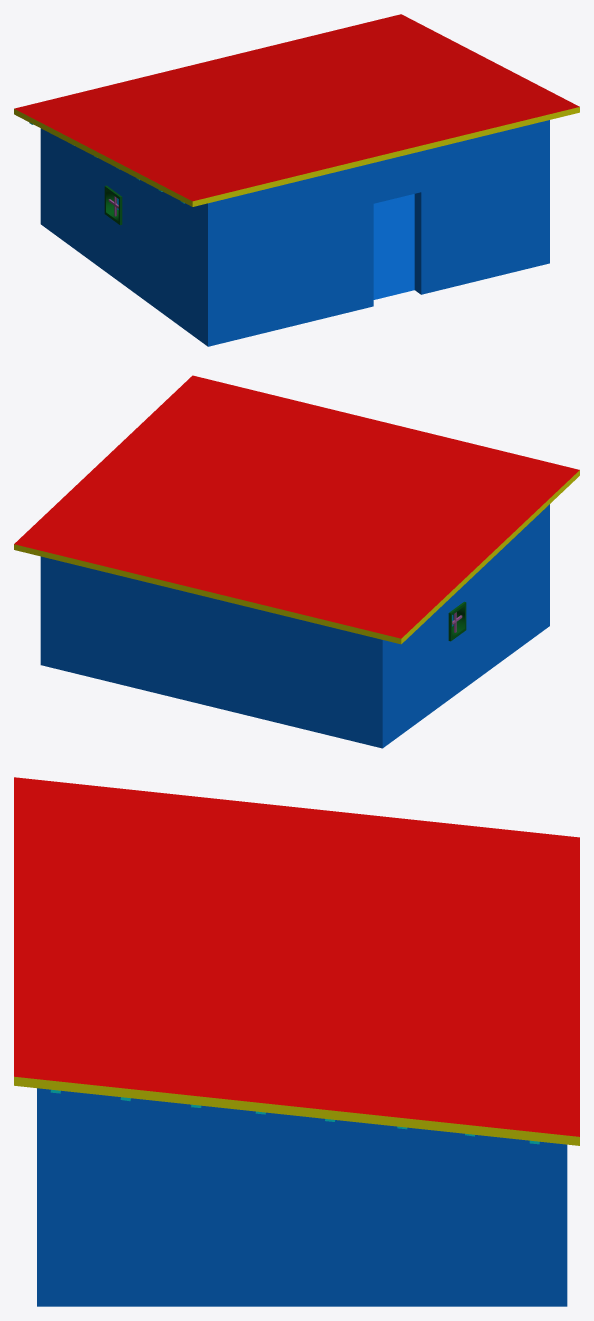
The model's file is Lighthouse_Building_Schuppen.fbx.
3 renders of one model, top to bottom at view 1: azimuth 30°, elevation 25°; view 2: azimuth 150°, elevation 25°; view 3: azimuth 270°, elevation 25°, orthographic. The views are drawn at different scales.
Visible parts, largest first — view 1: Building; view 2: Building; view 3: Building.
Part boxes in pixels (box(x1,y1,x2,y2)): Building: box(14, 14, 579, 346); Building: box(14, 375, 579, 748); Building: box(14, 777, 579, 1306).
Bounding box in the file's own units: 8.7 × 3.35 × 6.95.
